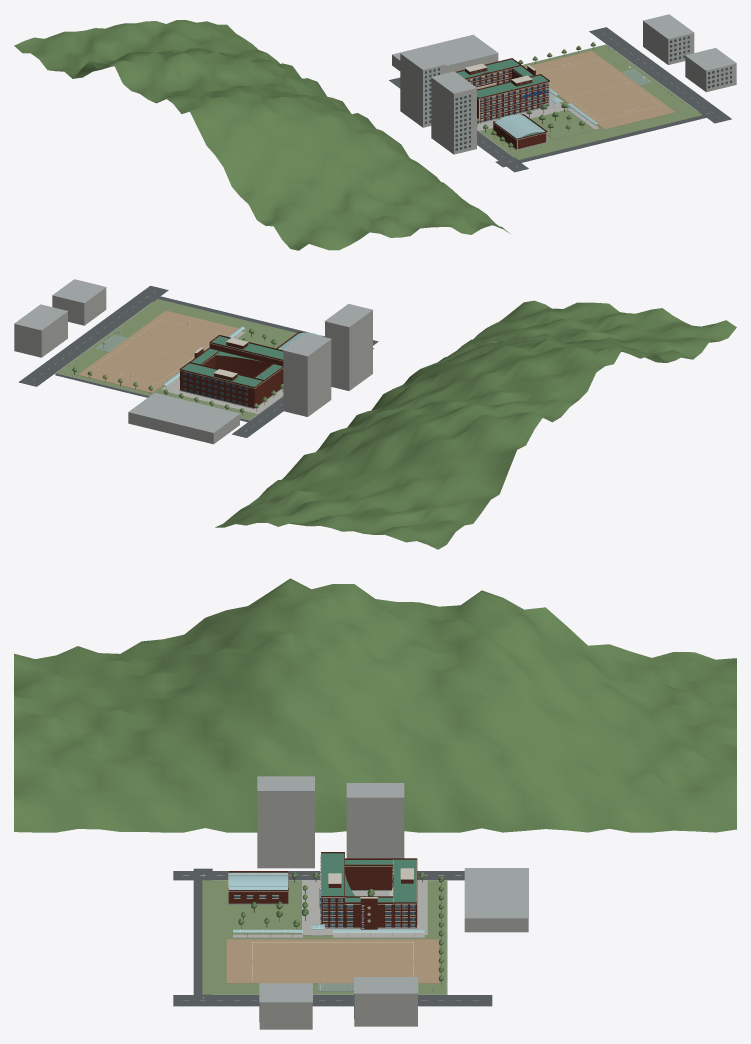
File: school.glb
The picture shows the model from 3 angles, top to bottom: view 1: azimuth 30°, elevation 25°; view 2: azimuth 150°, elevation 25°; view 3: azimuth 270°, elevation 25°; orthographic projection. The views are drawn at different scales.
Visible parts, largest first — view 1: Howon campus • static batched geometry; view 2: Howon campus • static batched geometry; view 3: Howon campus • static batched geometry.
Boxes of the visible parts, left/top/right/bottom form: Howon campus • static batched geometry: left=14, top=14, right=736, bottom=250; Howon campus • static batched geometry: left=14, top=279, right=736, bottom=549; Howon campus • static batched geometry: left=14, top=578, right=736, bottom=1029.
Bounding box in the file's own units: 369 × 64.12 × 340.
Materials: 28 (1 with a texture image).
